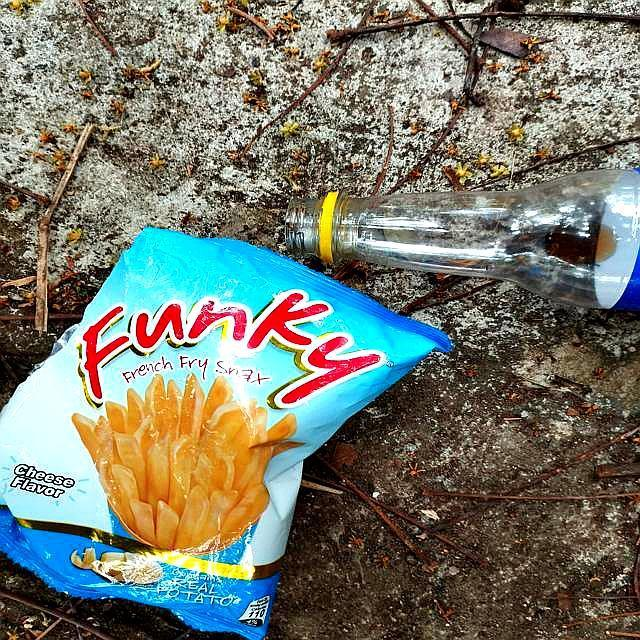Non-biodegradable: (7, 225, 451, 640), (295, 163, 640, 311)
